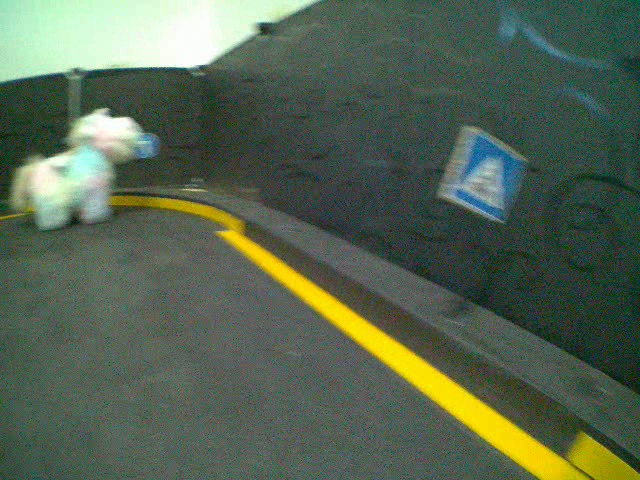unicorn: (10, 104, 148, 234)
